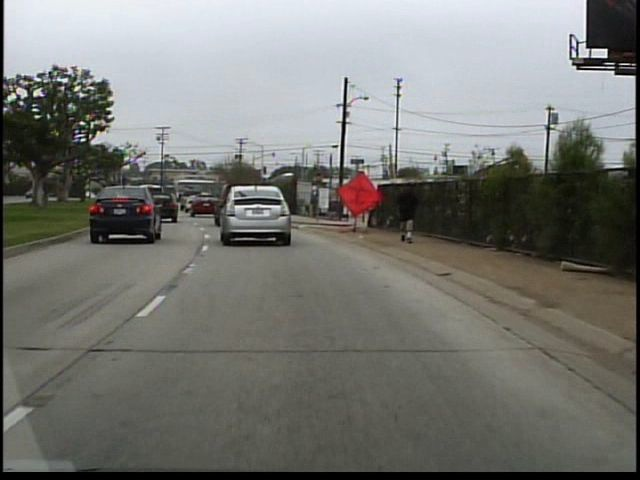person: (394, 176, 427, 249)
